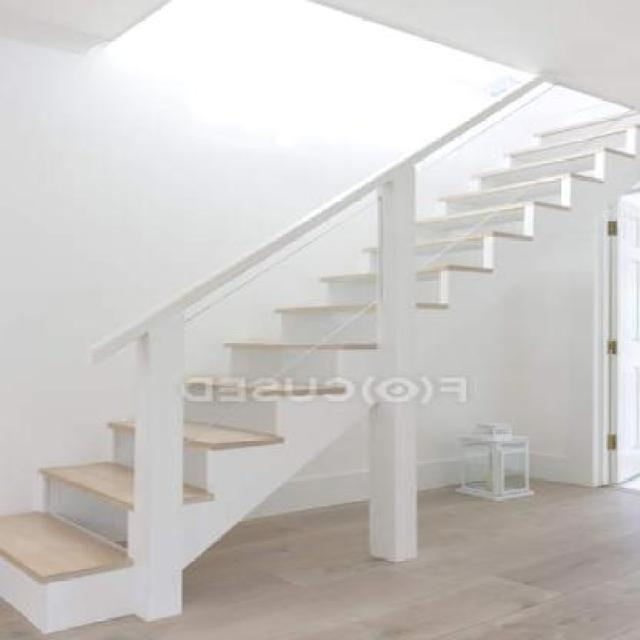stair: (1, 80, 638, 638)
